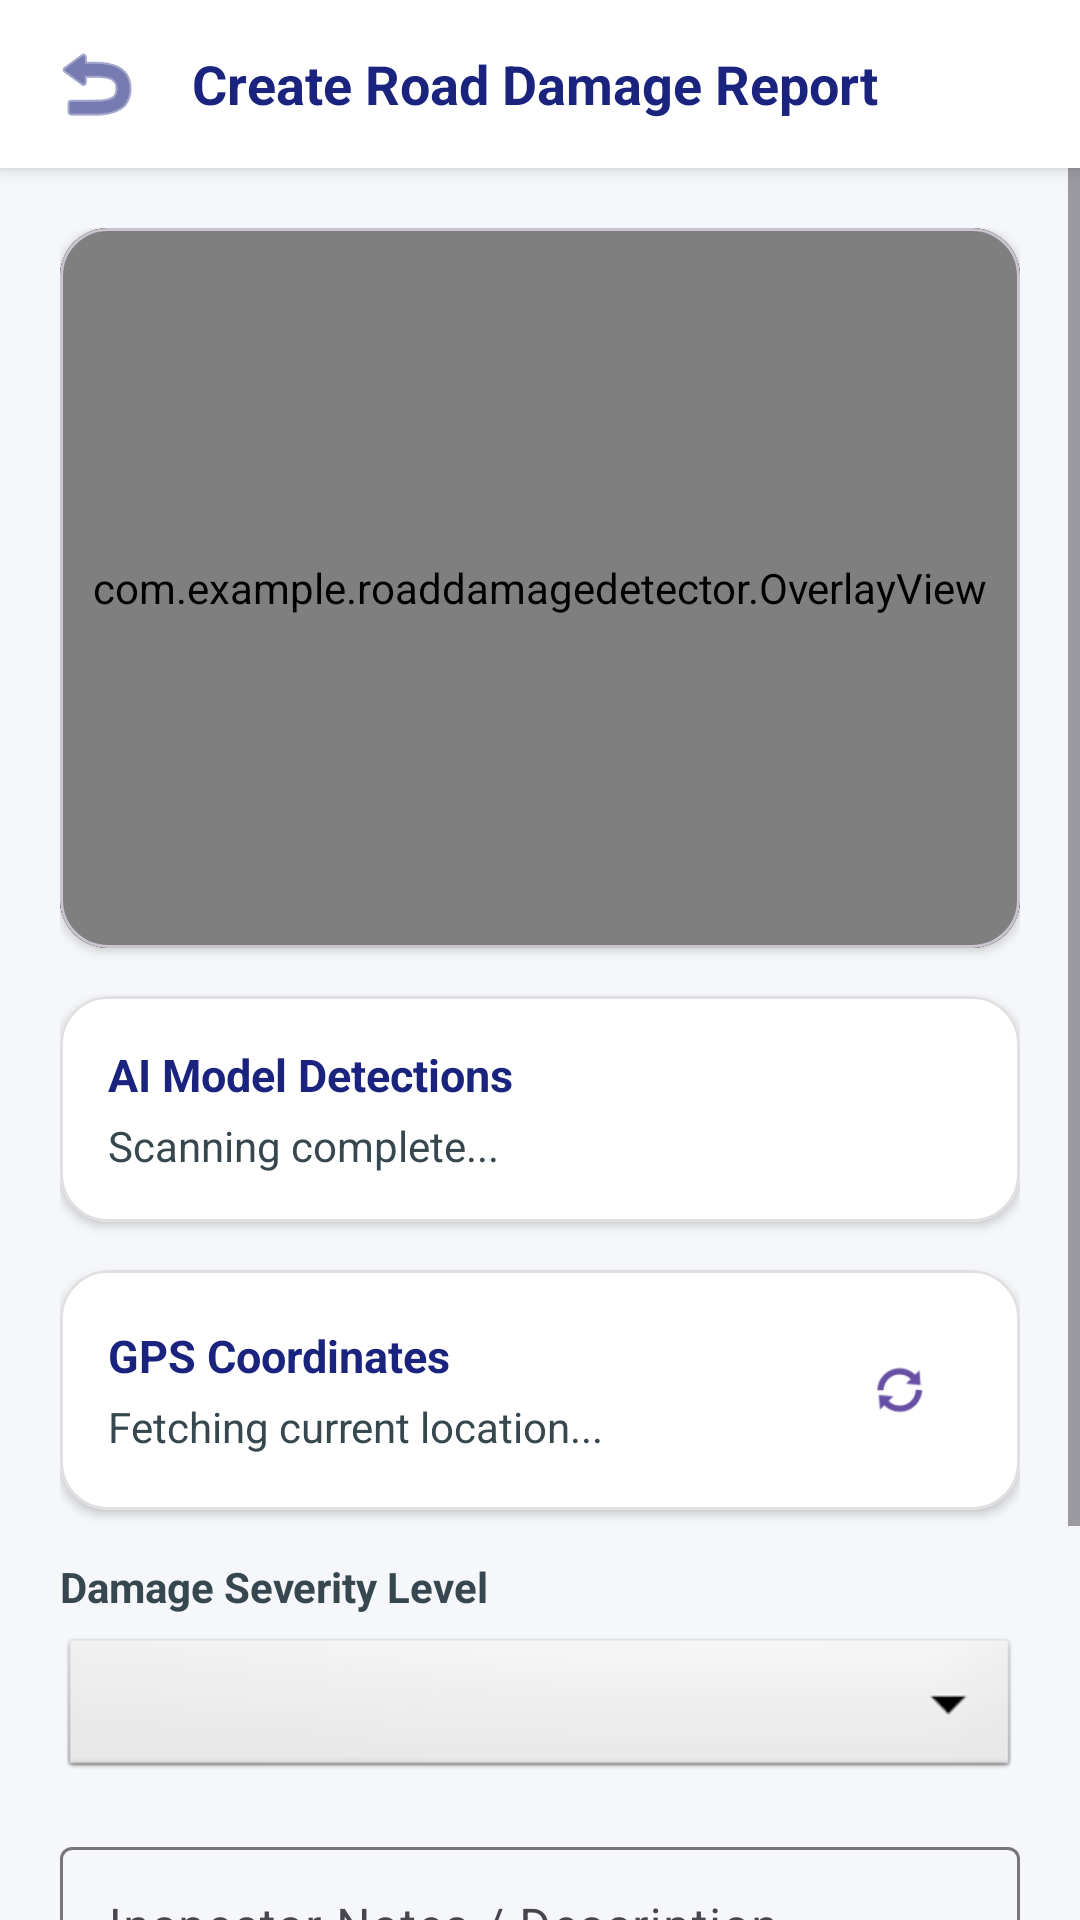

Icons on this 1080px×1920px Android screen, each with the point to tap as (x,y):
Back: (97,84)
Refresh GPS: (900,1390)
